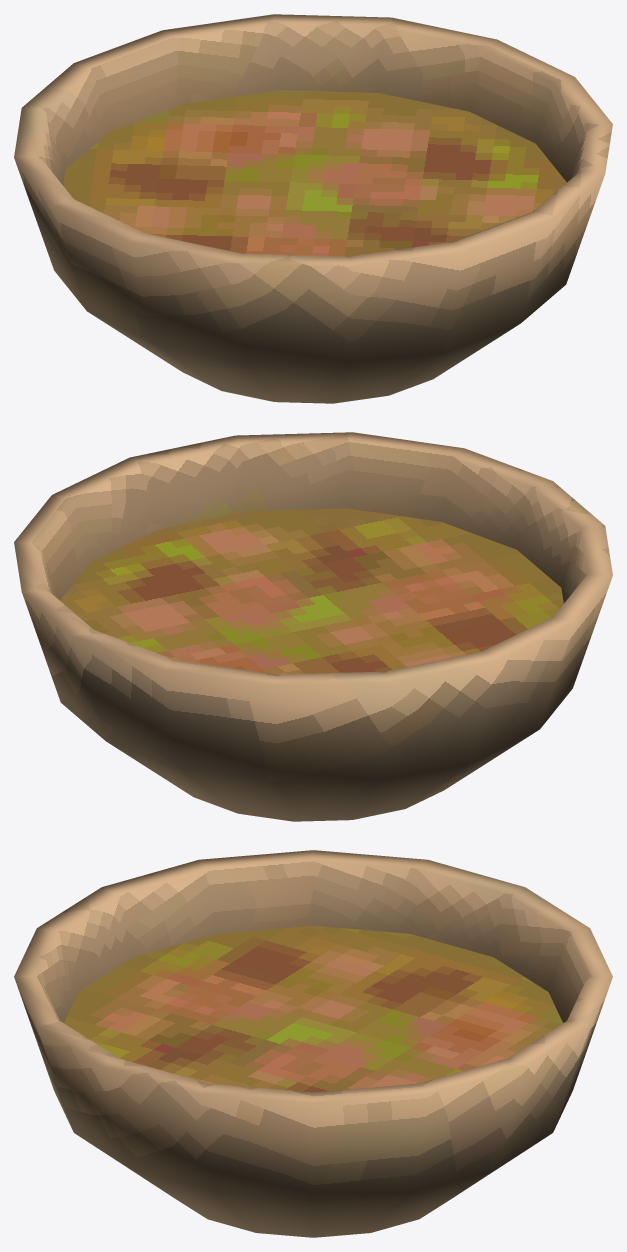
The model's file is SerpentStew.fbx.
The picture shows the model from 3 angles, top to bottom: view 1: azimuth 30°, elevation 25°; view 2: azimuth 150°, elevation 25°; view 3: azimuth 270°, elevation 25°; orthographic projection.
Visible parts, largest first — view 1: attach; view 2: attach; view 3: attach.
Boxes of the visible parts, <box> form: attach: <box>14,14,612,403</box>; attach: <box>14,432,612,821</box>; attach: <box>14,850,612,1237</box>.
Bounding box in the file's own units: 0.5458 × 0.1991 × 0.5458.
Materials: 1 (1 with a texture image).
